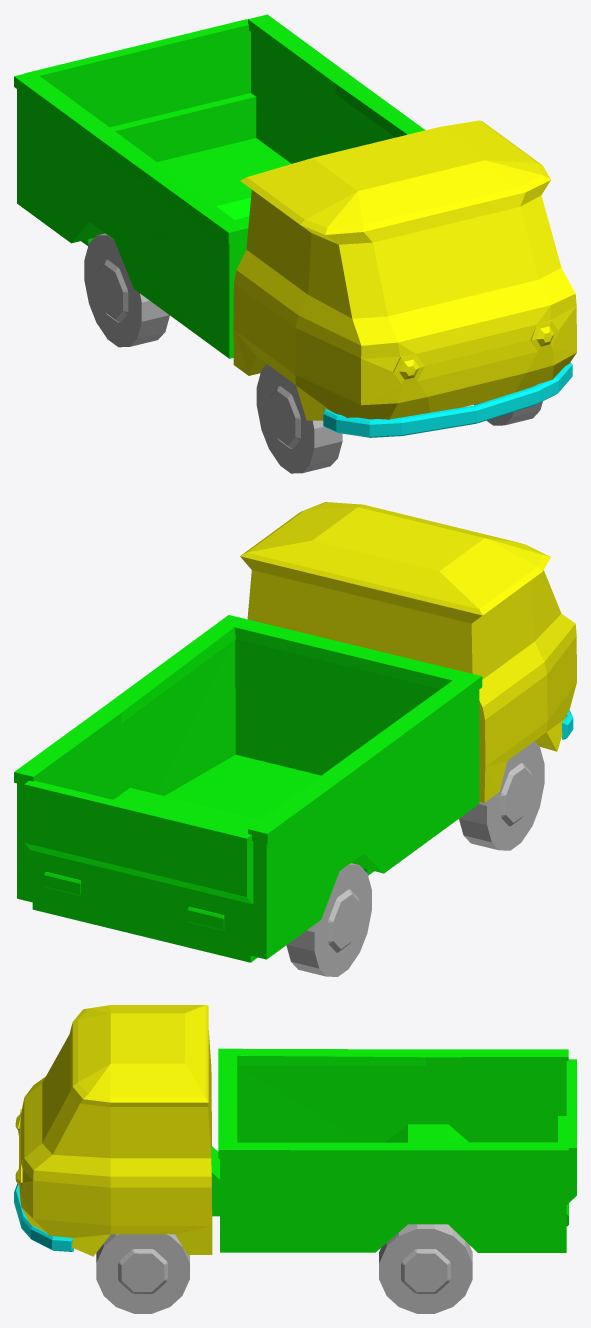
Rendered from Camion (1).fbx.
3 renders of one model, top to bottom at view 1: azimuth 30°, elevation 25°; view 2: azimuth 150°, elevation 25°; view 3: azimuth 270°, elevation 25°, orthographic. The views are drawn at different scales.
Visible parts, largest first — view 1: Cabina, Trailer, Puerta, Rueda_Trasera_2, Rueda_Delantera_2, Parachoques, Rueda_Delantera_1; view 2: Trailer, Cabina, Puerta, Rueda_Trasera_2, Rueda_Delantera_2, Faro_Trasero_2, Faro_Trasero; view 3: Trailer, Cabina, Rueda_Trasera_1, Rueda_Delantera_1, Puerta, Parachoques.
Boxes of the visible parts, x1,y1,x2,y2 form: Cabina: [233, 120, 576, 420]; Trailer: [14, 14, 425, 358]; Puerta: [24, 19, 250, 127]; Rueda_Trasera_2: [84, 233, 169, 347]; Rueda_Delantera_2: [256, 364, 342, 473]; Parachoques: [323, 362, 572, 437]; Rueda_Delantera_1: [474, 401, 542, 425]; Trailer: [14, 615, 482, 962]; Cabina: [240, 502, 576, 802]; Puerta: [24, 780, 253, 904]; Rueda_Trasera_2: [286, 863, 371, 976]; Rueda_Delantera_2: [459, 741, 544, 850]; Faro_Trasero_2: [187, 907, 224, 930]; Faro_Trasero: [43, 872, 80, 895]; Trailer: [211, 1048, 568, 1252]; Cabina: [15, 1005, 212, 1256]; Rueda_Trasera_1: [379, 1224, 472, 1313]; Rueda_Delantera_1: [96, 1234, 189, 1313]; Puerta: [566, 1059, 576, 1204]; Parachoques: [14, 1183, 73, 1251].
Bounding box in the file's own units: 1.93 × 2.05 × 4.54.
